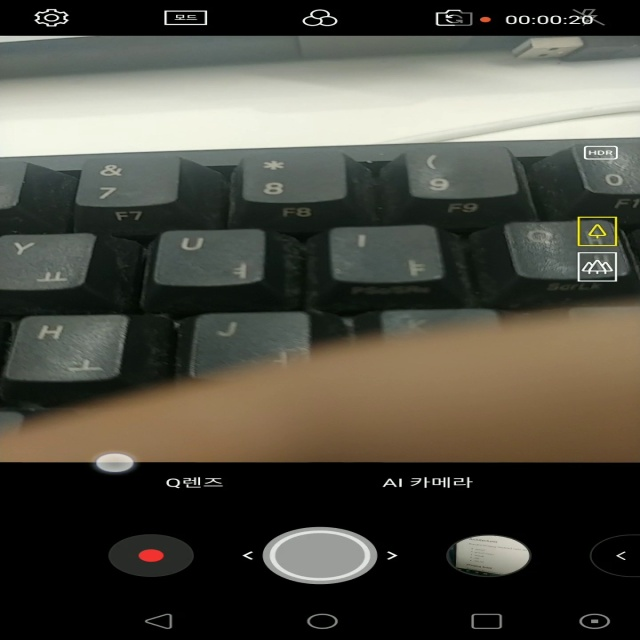Cursor: (93, 452, 137, 474)
